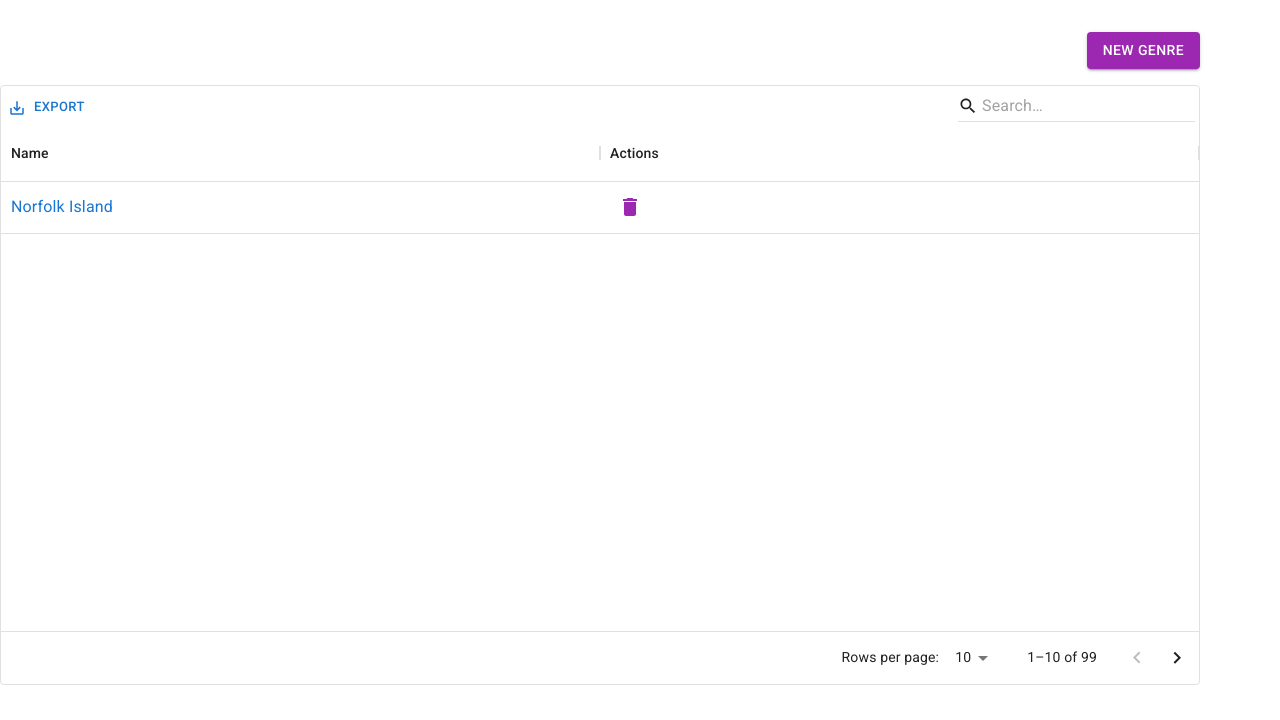
Test case: GenreList › should handle filter change
Expected: the text "Norfolk Island" is shown, [11,195,113,219]
Type "Norfolk Island" into the search field with placeholder "Search…" at (1074,106), box [982,90,1165,122]
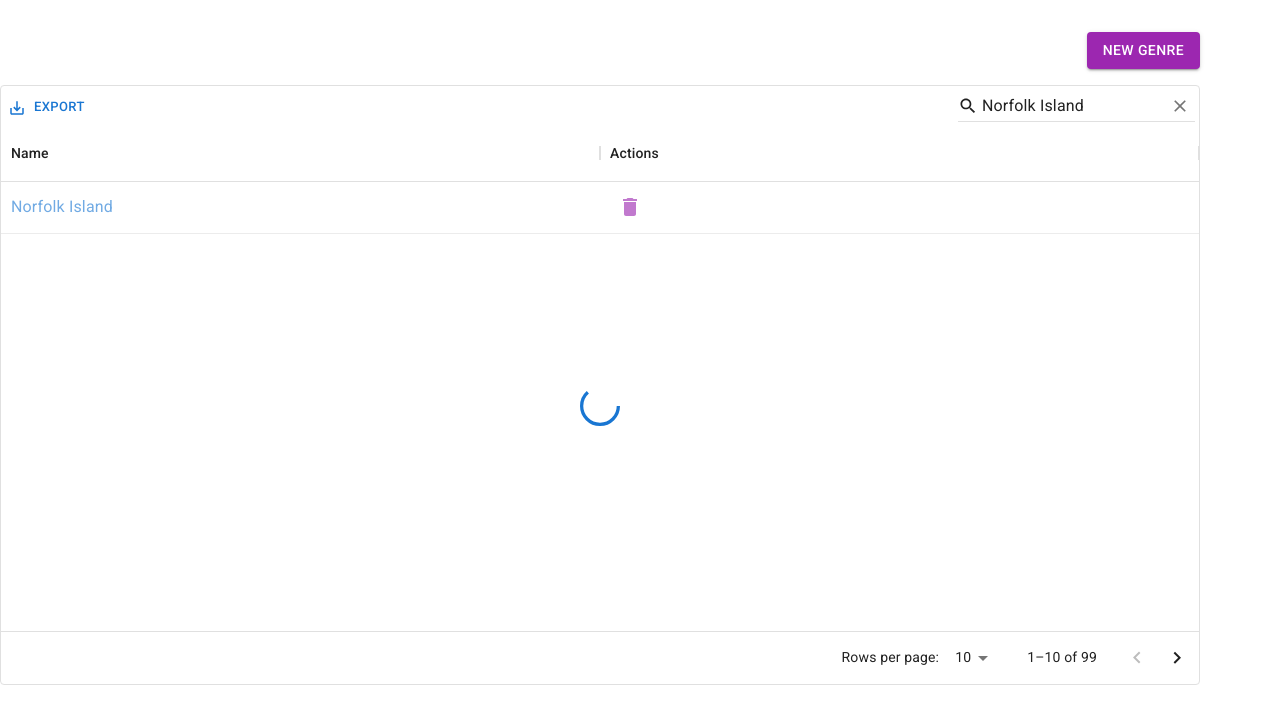
Expected: the progress indicator is shown, [580,386,620,426]
